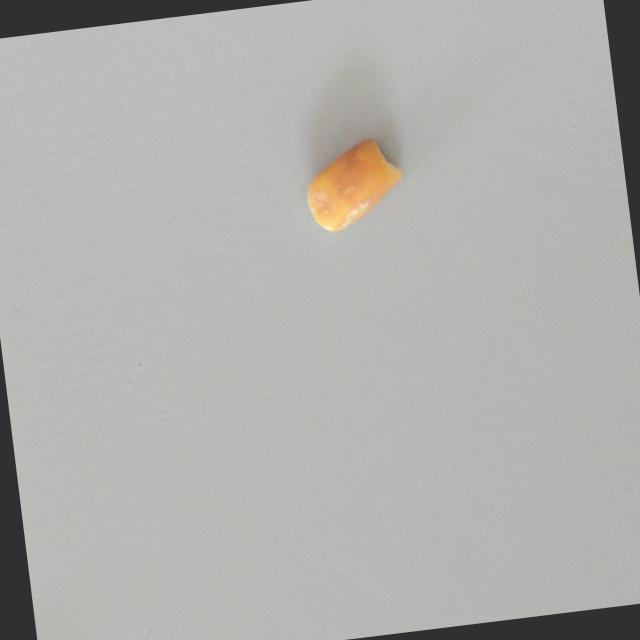dañado: (293, 128, 408, 239)
